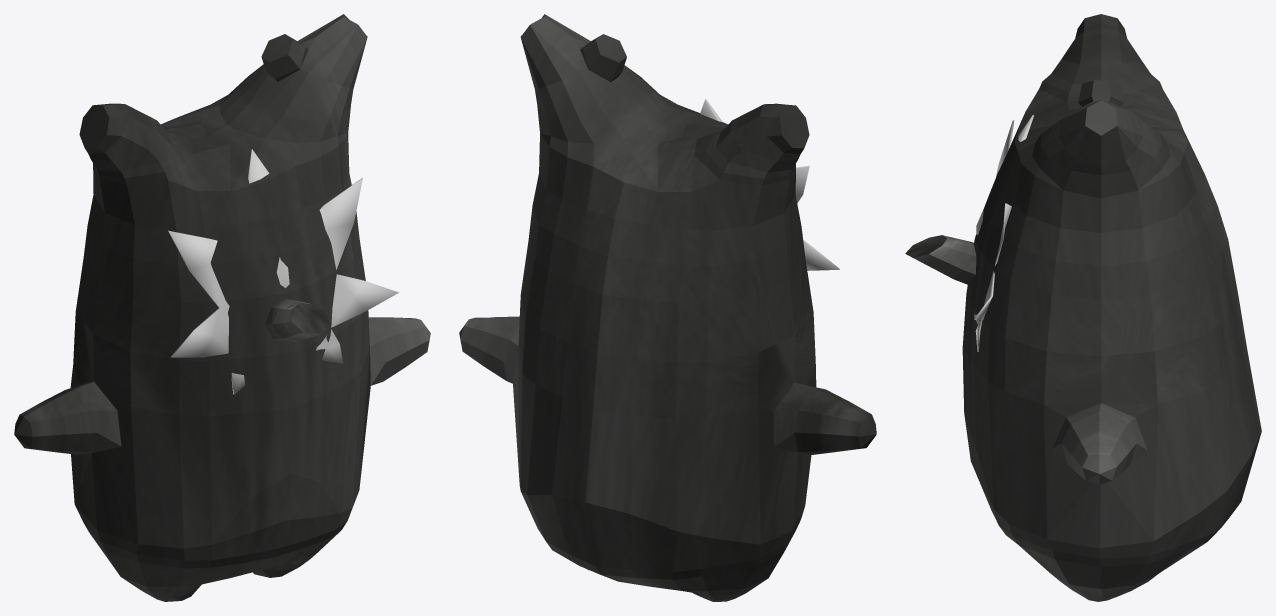
Rendered from frame_0010.obj.
3 renders of one model, left to right at view 1: azimuth 30°, elevation 25°; view 2: azimuth 150°, elevation 25°; view 3: azimuth 270°, elevation 25°, orthographic.
Parts seen in each view (by area): view 1: korok, leaf.003_柱体.013, nose.003_柱体.011; view 2: korok, leaf.003_柱体.013; view 3: korok, nose.003_柱体.011, leaf.003_柱体.013.
Boxes of the visible parts, <box> form: korok: <box>14,14,430,601</box>; leaf.003_柱体.013: <box>168,149,398,394</box>; nose.003_柱体.011: <box>265,299,329,341</box>; korok: <box>459,14,876,601</box>; leaf.003_柱体.013: <box>700,99,839,270</box>; korok: <box>962,14,1261,601</box>; nose.003_柱体.011: <box>905,235,976,286</box>; leaf.003_柱体.013: <box>974,115,1033,351</box>.
Bounding box in the file's own units: 1.92 × 2.38 × 1.44.
